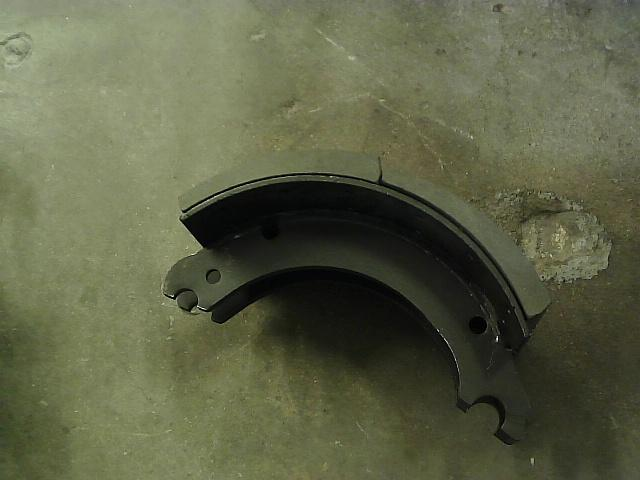brake-shoes: (161, 149, 551, 444)
